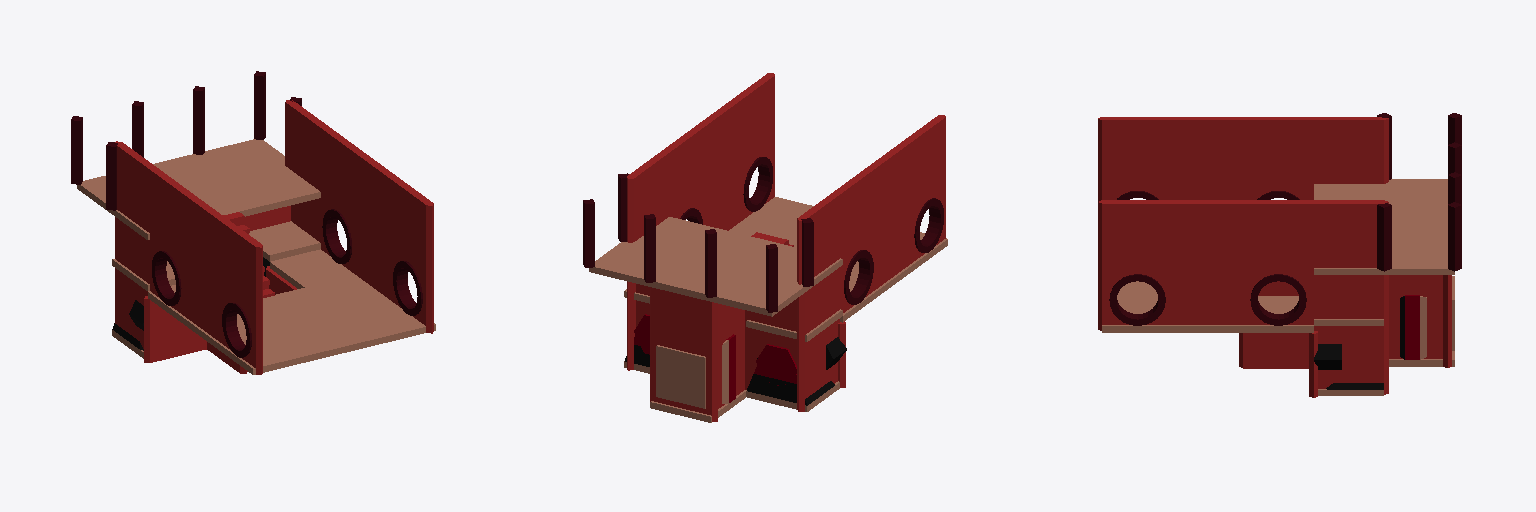
Rendered from NuggetInterior.obj.
The picture shows the model from 3 angles: view 1: azimuth 30°, elevation 25°; view 2: azimuth 150°, elevation 25°; view 3: azimuth 270°, elevation 25°; orthographic projection.
Visible parts, largest first — view 1: mergedBlocks; view 2: mergedBlocks; view 3: mergedBlocks.
Part boxes in pixels (x1,y1,x2,y2): mergedBlocks: (71, 71, 435, 374); mergedBlocks: (583, 73, 947, 422); mergedBlocks: (1098, 113, 1461, 397).
Size of the model in its own units: 3.21 by 3 by 5.17.